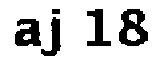1: (83, 5, 114, 50)
8: (118, 5, 153, 50)
a: (11, 17, 44, 50)
j: (40, 7, 72, 59)
